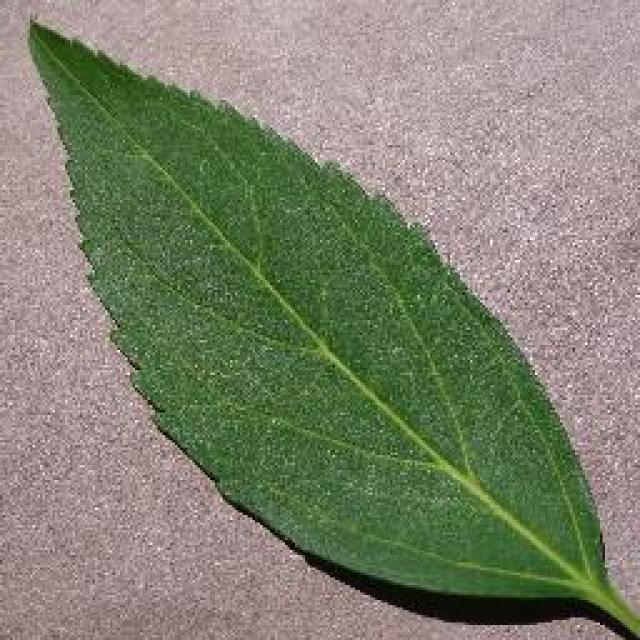Cher_including_sour_healthy: (51, 42, 605, 550)
